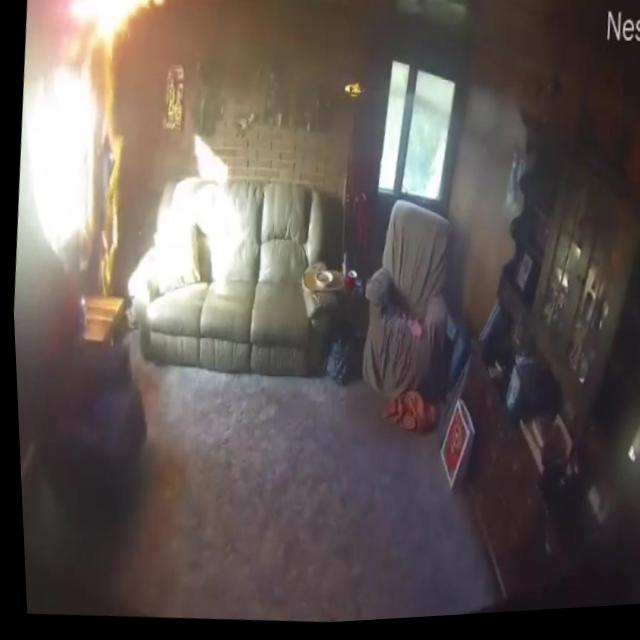fire: (77, 53, 134, 294), (56, 0, 174, 61)
